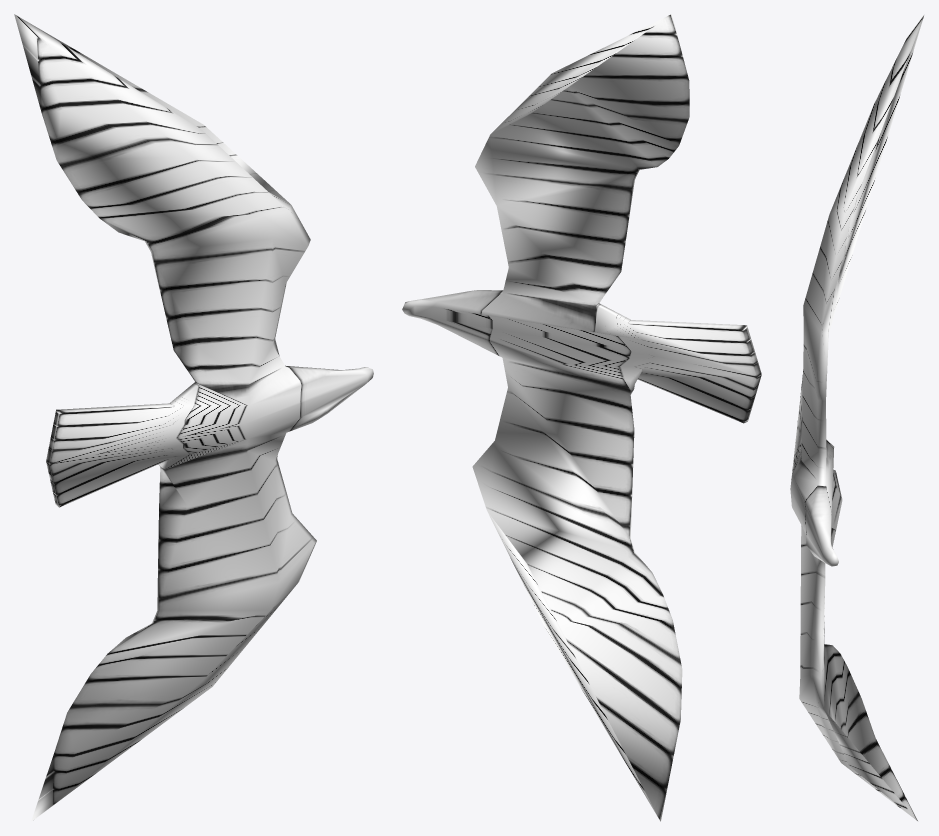
Rendered from seagull_000016.obj.
The picture shows the model from 3 angles, left to right: view 1: azimuth 30°, elevation 25°; view 2: azimuth 150°, elevation 25°; view 3: azimuth 270°, elevation 25°; orthographic projection.
Parts seen in each view (by area): view 1: Seagull; view 2: Seagull; view 3: Seagull.
Boxes of the visible parts, x1,y1,x2,y2 form: Seagull: (14,14,373,821); Seagull: (402,14,761,821); Seagull: (790,14,924,821).
Bounding box in the file's own units: 0.5774 × 1.31 × 0.1994.
